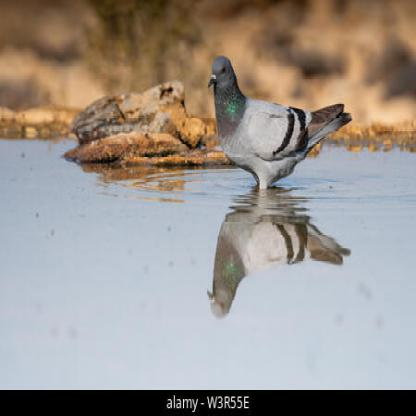Flying Rat: (202, 52, 378, 201)
